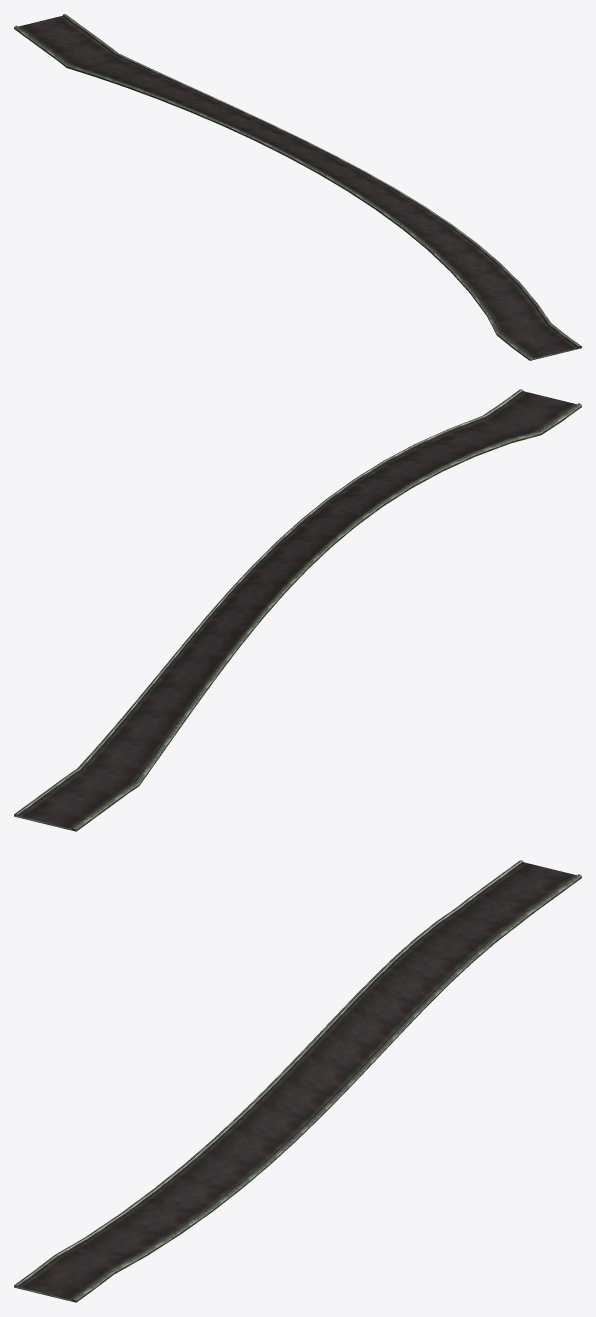
The model's file is Road_Folle.fbx.
3 views of the same model, one above another, from view 1: azimuth 30°, elevation 25°; view 2: azimuth 150°, elevation 25°; view 3: azimuth 330°, elevation 25° (orthographic). The views are drawn at different scales.
Visible parts, largest first — view 1: Road_Folle; view 2: Road_Folle; view 3: Road_Folle.
Boxes of the visible parts, x1=… form: Road_Folle: x1=14, y1=14, x2=581, y2=360; Road_Folle: x1=14, y1=389, x2=581, y2=831; Road_Folle: x1=14, y1=860, x2=581, y2=1302.
Size of what is drawn, in the model's own units: 41.07 by 9.03 by 288.
